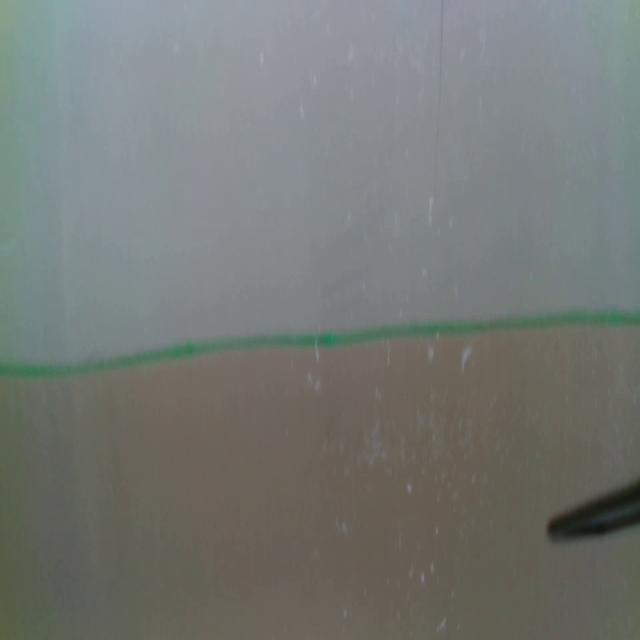crease: (432, 0, 447, 180)
